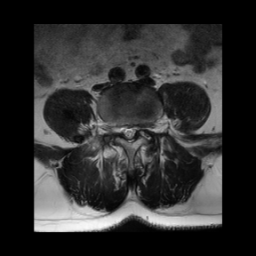CCS_normal: (126, 119, 133, 146)
LFS_severe_stenosis: (139, 120, 146, 138)
LLS_stenosis: (133, 120, 138, 138)
RFS_normal: (114, 119, 120, 138)
RLS_normal: (120, 120, 126, 138)
